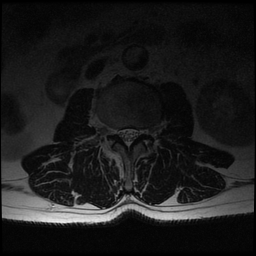CCS_normal: (125, 122, 132, 154)
LFS_stenosis: (140, 123, 147, 143)
LLS_normal: (132, 123, 139, 147)
RFS_normal: (109, 120, 117, 145)
RLS_normal: (118, 123, 125, 147)
